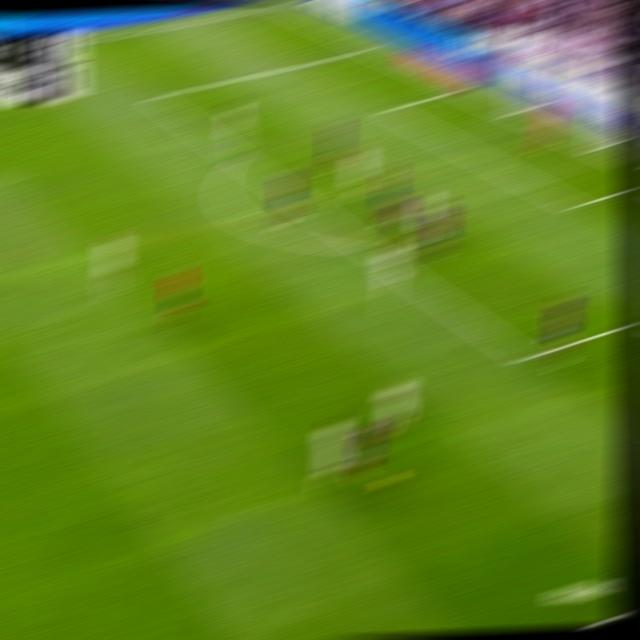bigarea_bottom_inner: (513, 344, 540, 371)
bigarea_top_inner: (142, 88, 164, 104)
bigarea_top_outter: (357, 41, 380, 54)
bottom_arc_area_intersection: (352, 237, 378, 256)
corner: (268, 3, 291, 10)
smallarea_top_inner: (376, 102, 398, 116)
top_arc_area_intersection: (227, 149, 250, 164)
